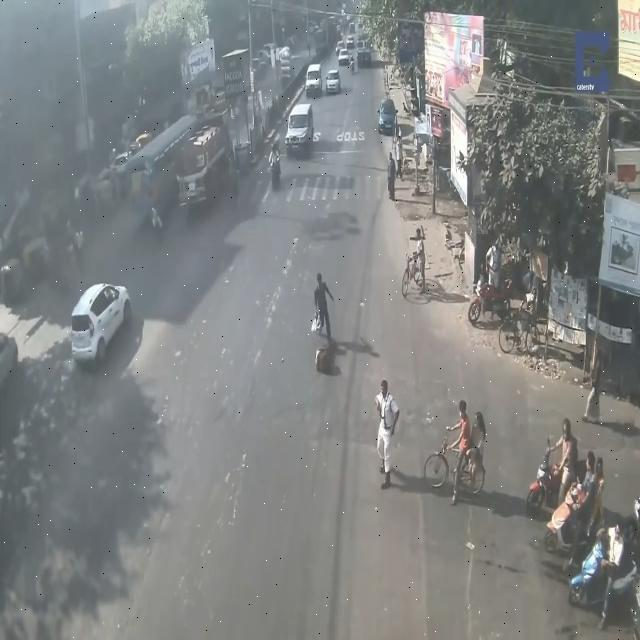accident: (311, 327, 344, 384)
